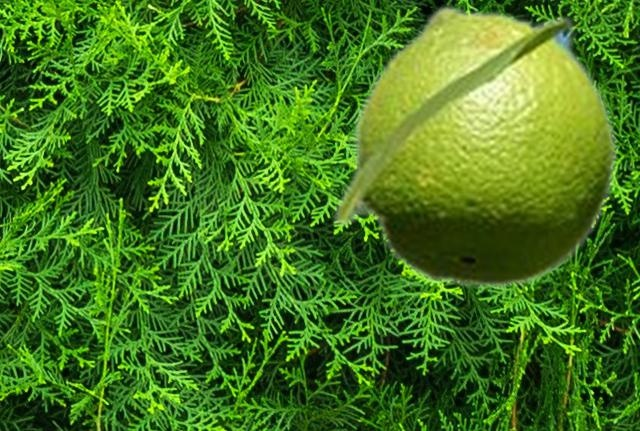dalandan: (330, 4, 619, 290)
